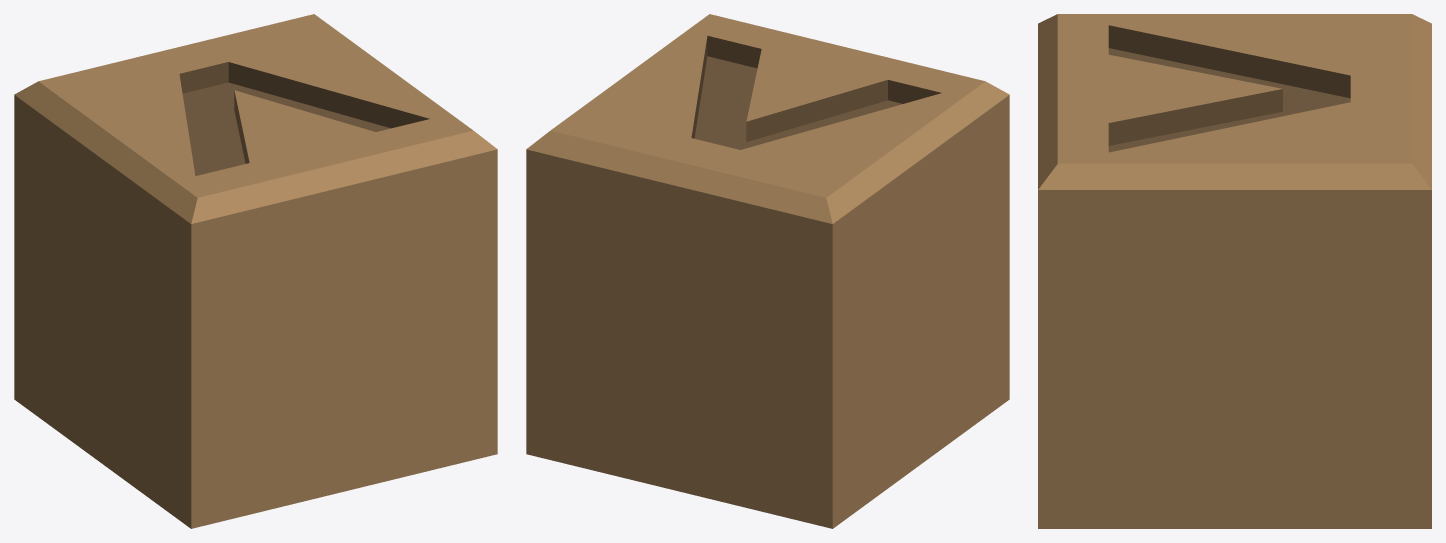
File: wallOneWay.fbx
The picture shows the model from 3 angles, left to right: view 1: azimuth 30°, elevation 25°; view 2: azimuth 150°, elevation 25°; view 3: azimuth 270°, elevation 25°; orthographic projection. The views are drawn at different scales.
Parts seen in each view (by area): view 1: wallOneWay; view 2: wallOneWay; view 3: wallOneWay.
Boxes of the visible parts, x1,y1,x2,y2 form: wallOneWay: [14, 14, 497, 528]; wallOneWay: [526, 14, 1009, 528]; wallOneWay: [1038, 14, 1431, 528].
Bounding box in the file's own units: 100 × 100 × 100.
